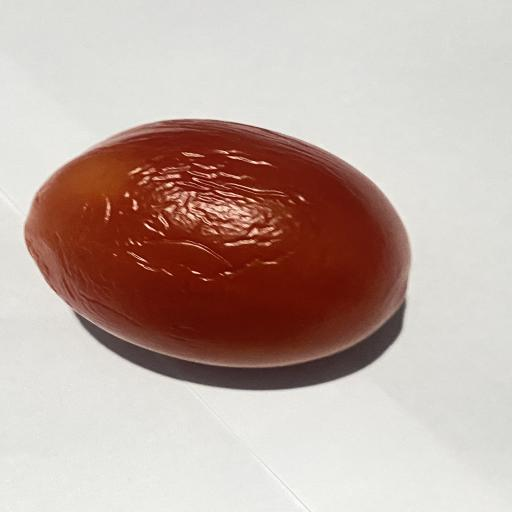spoiled: (25, 119, 410, 367), (324, 265, 330, 272)
